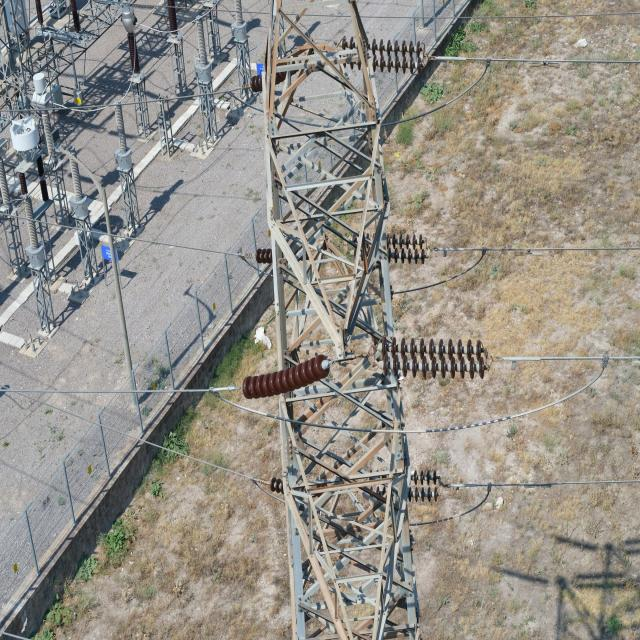direk: (259, 0, 426, 640)
